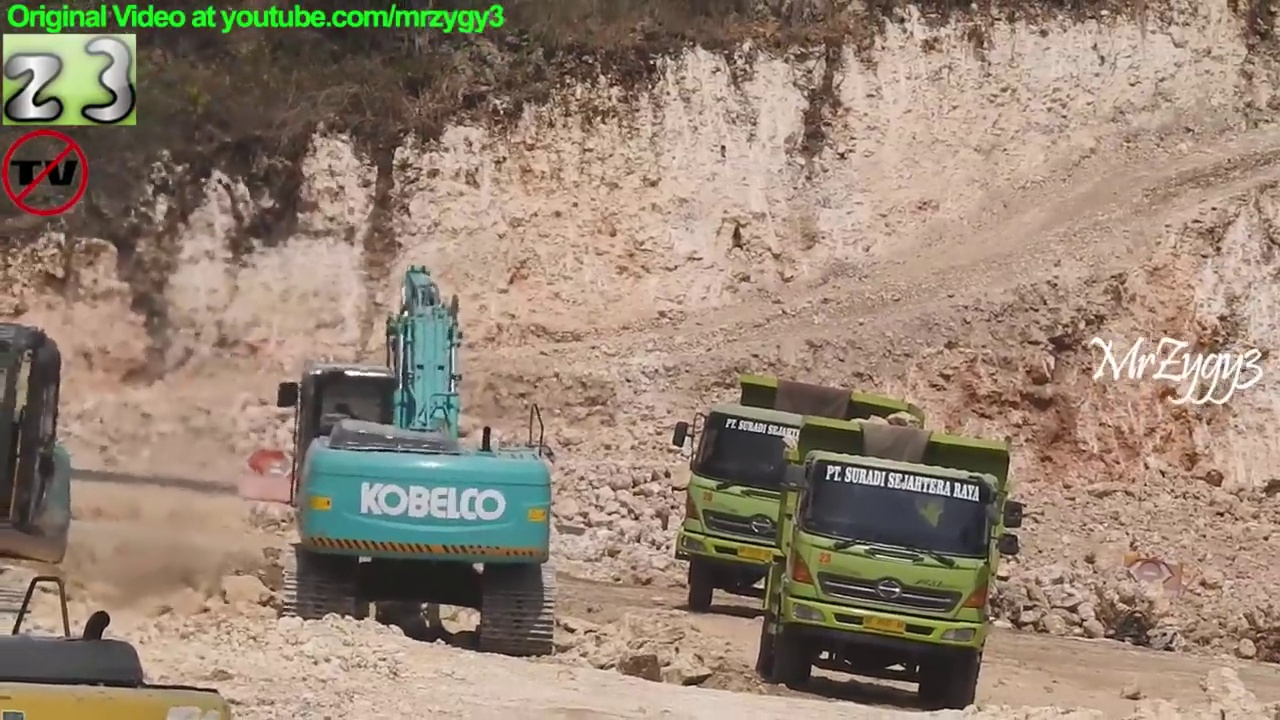excavator: (269, 257, 567, 668), (1, 567, 243, 720), (1, 318, 77, 621)
truck: (753, 412, 1034, 714), (669, 368, 944, 620)
